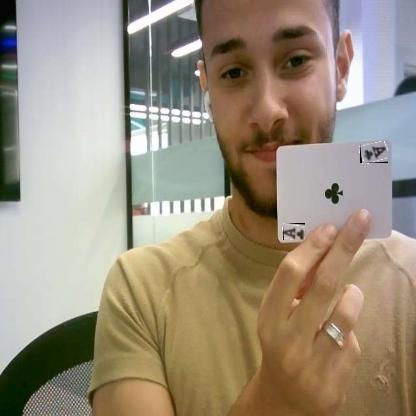AC: (360, 143, 388, 163), (283, 223, 305, 240)
